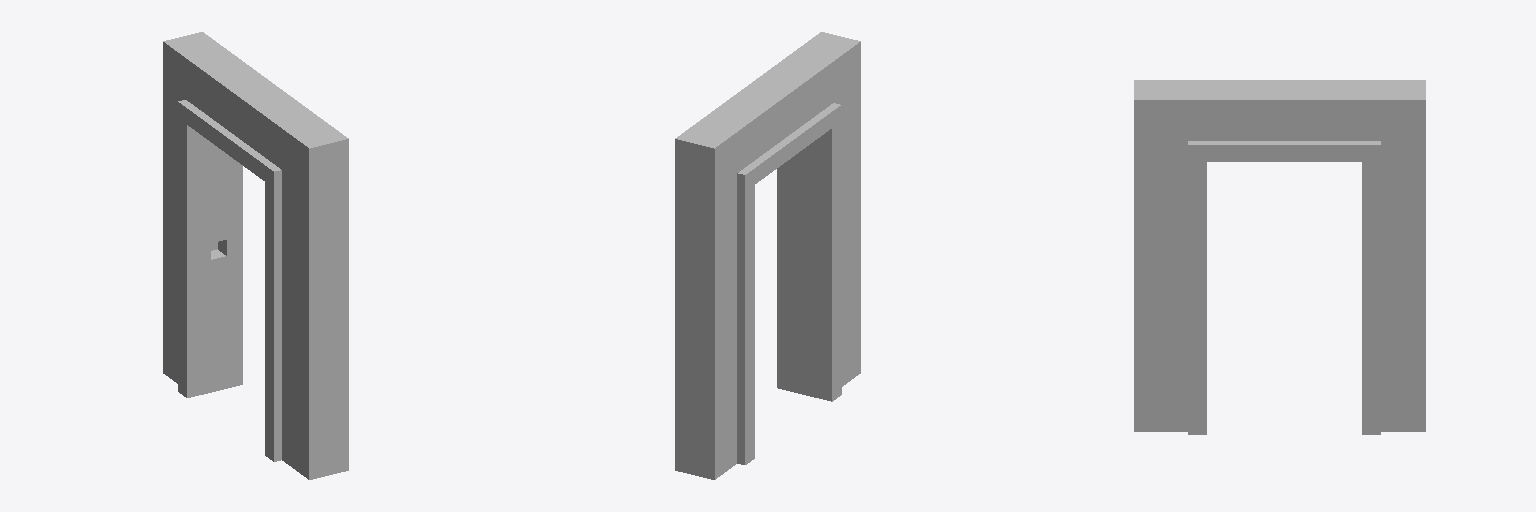
Rendered from Menu Scene 03-43.obj.
The picture shows the model from 3 angles: view 1: azimuth 30°, elevation 25°; view 2: azimuth 150°, elevation 25°; view 3: azimuth 270°, elevation 25°; orthographic projection.
Parts seen in each view (by area): view 1: Menu Scene 03-43; view 2: Menu Scene 03-43; view 3: Menu Scene 03-43.
Part boxes in pixels (bbox=[...]): Menu Scene 03-43: bbox=[163, 32, 348, 479]; Menu Scene 03-43: bbox=[675, 32, 860, 479]; Menu Scene 03-43: bbox=[1134, 80, 1425, 434].
Bounding box in the file's own units: 7 × 40 × 32.